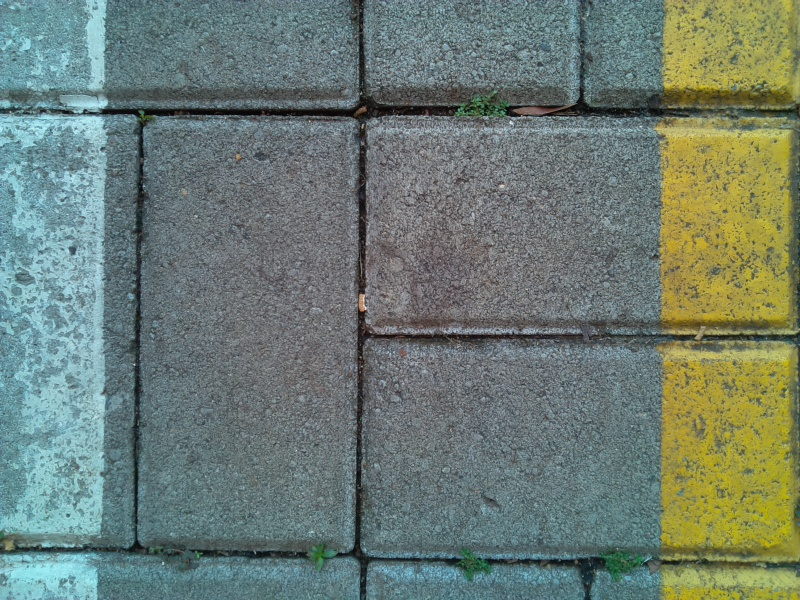Weed: (143, 539, 211, 577), (592, 546, 662, 582), (446, 89, 512, 123), (297, 536, 346, 577), (451, 544, 500, 585), (127, 107, 164, 137)
